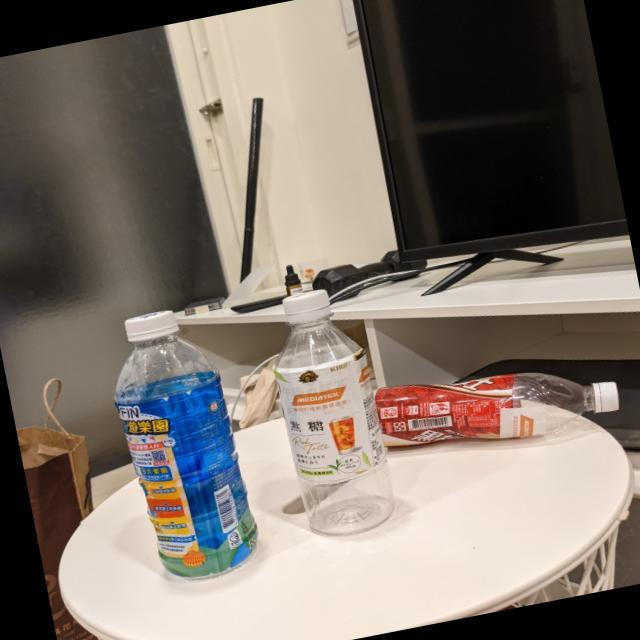good: (91, 288, 280, 589), (252, 270, 412, 554), (359, 347, 640, 469)
